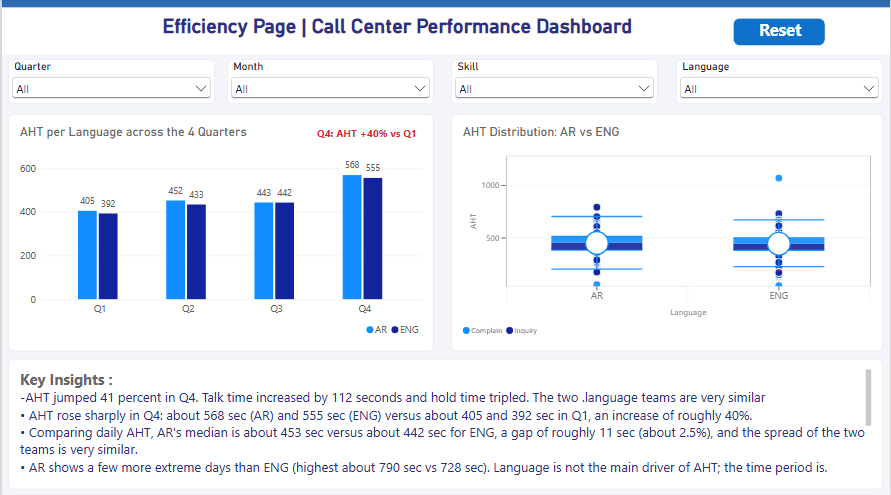

This screenshot's page, from the dashboard's own definition file:
{"tool":"powerbi","page":{"name":"Efficiency","canvas":[1280,720],"ordinal":2},"visuals":[{"type":"shape","box":[0,0,1280,80],"z":0},{"type":"textbox","box":[158.3,21.7,821.7,35],"z":1000},{"type":"shape","box":[0,0,1280,12],"z":2000},{"type":"slicer","fields":{"Values":["Calendar.Quarter"]},"box":[8.8,86.2,298,65],"z":4000},{"type":"slicer","fields":{"Values":["Calendar.Month"]},"box":[323.3,86.4,298,65],"z":5000},{"type":"slicer","fields":{"Values":["Calls.Skill"]},"box":[646.7,86.4,298,65],"z":6000},{"type":"slicer","fields":{"Values":["Calls.Language"]},"box":[970,86.4,298,65],"z":7000},{"type":"clusteredColumnChart","title":"AHT per Language across the 4 Quarters ","fields":{"Category":["Calendar.Quarter"],"Series":["Calls.Language"],"Y":["_Measures.AHT"]},"box":[8.3,165,613.3,341.7],"z":8000},{"type":"textbox","box":[452.9,164.7,169.1,52.9],"z":9000},{"type":"BoxandWhiskerByMAQ1823AD39DT234AB532063E128AX","title":"AHT Distribution: AR vs ENG ","fields":{"measure":["_Measures.AHT"],"category":["Calendar.Date"],"categoryGroup":["Calls.Language"],"categoryColor":["Calls.Skill"]},"box":[646.7,165,621.7,341.7],"z":10000},{"type":"textbox","box":[8.3,518.3,1260,188.3],"z":11000},{"type":"actionButton","title":"Reset","box":[1053.3,26.7,133.3,40],"z":12000}]}

Visuals, with their boxes in screenshot pixels (x1, y1, x2, y2), scaled from the page's 1280x720 canvas onto the 891x495 screenshot:
shape: bbox(0, 0, 890, 55)
textbox: bbox(110, 15, 682, 39)
shape: bbox(0, 0, 890, 8)
slicer - Calendar.Quarter: bbox(6, 59, 214, 104)
slicer - Calendar.Month: bbox(225, 59, 432, 104)
slicer - Calls.Skill: bbox(450, 59, 658, 104)
slicer - Calls.Language: bbox(675, 59, 883, 104)
"AHT per Language across the 4 Quarters " clusteredColumnChart: bbox(6, 113, 433, 348)
textbox: bbox(315, 113, 433, 150)
"AHT Distribution: AR vs ENG " BoxandWhiskerByMAQ1823AD39DT234AB532063E128AX: bbox(450, 113, 883, 348)
textbox: bbox(6, 356, 883, 486)
"Reset" actionButton: bbox(733, 18, 826, 46)
